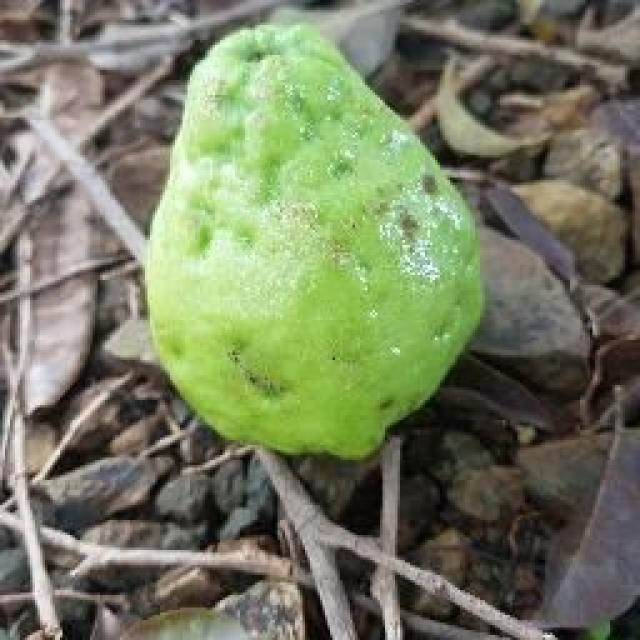Good_Guava: (145, 22, 488, 465)
